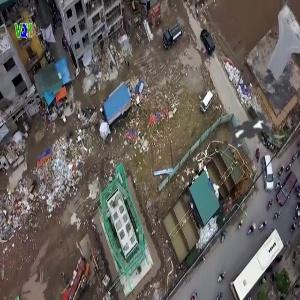drone: (196, 79, 299, 182)
